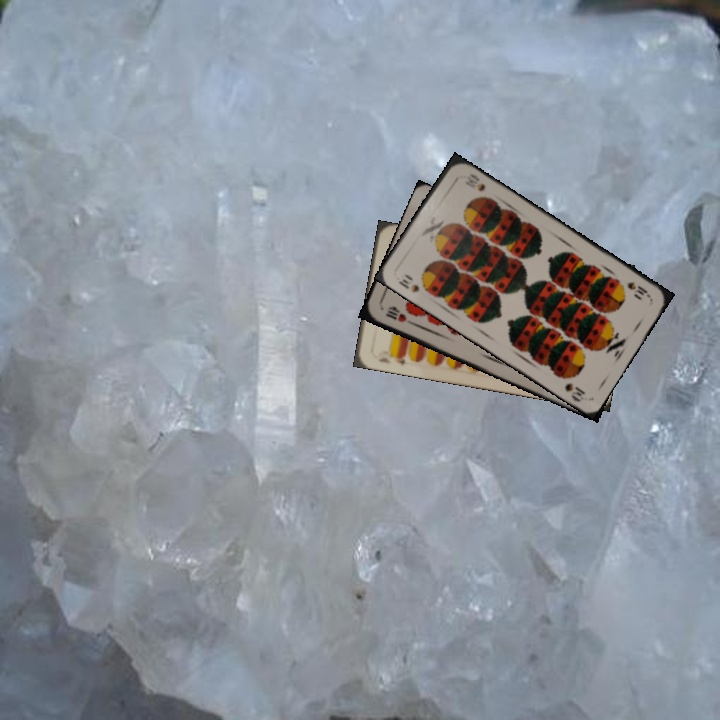E10: (374, 349, 408, 368)
H10: (382, 304, 416, 327)
S10: (394, 269, 422, 295), (623, 277, 653, 301)
